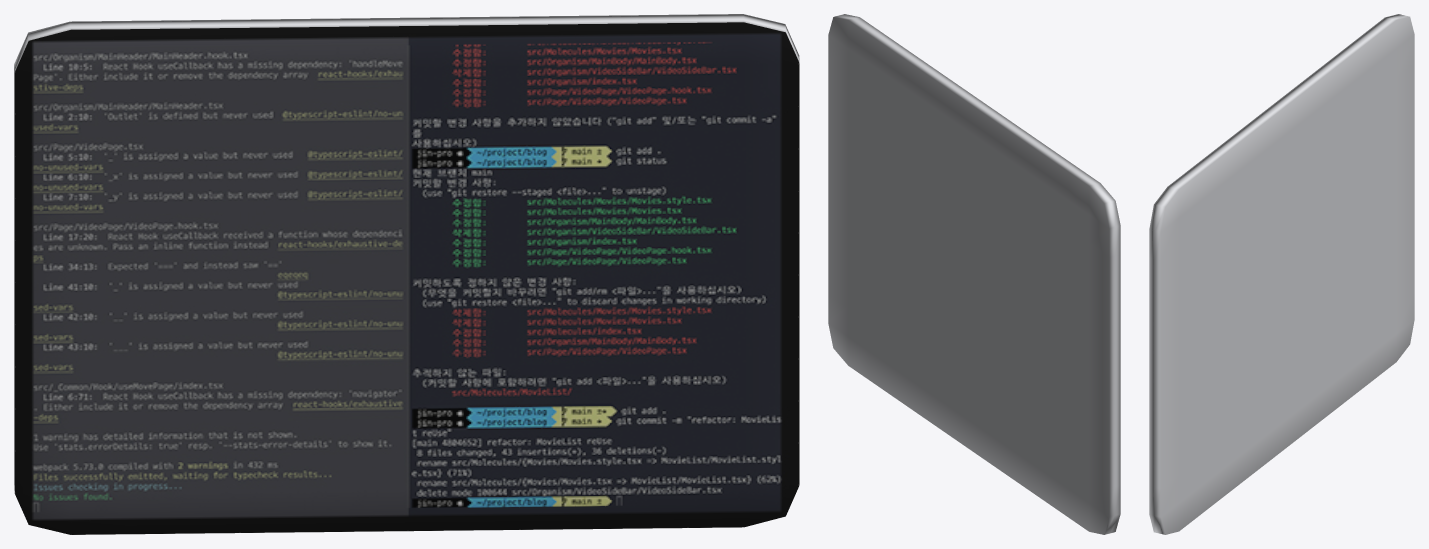
Rendered from ipad.fbx.
3 renders of one model, left to right at view 1: azimuth 30°, elevation 25°; view 2: azimuth 150°, elevation 25°; view 3: azimuth 270°, elevation 25°, orthographic. The views are drawn at different scales.
Parts seen in each view (by area): view 1: ipad; view 2: ipad; view 3: ipad.
Boxes of the visible parts, x1,y1,x2,y2 form: ipad: (14,14,799,534); ipad: (828,14,1120,534); ipad: (1149,14,1414,534).
Bounding box in the file's own units: 0.5987 × 0.4769 × 0.3353.
1 material, 1 textured.
